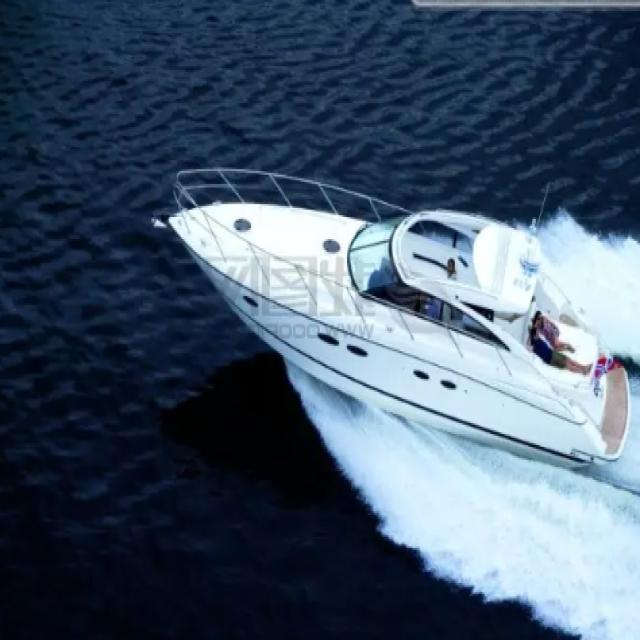houseboat: (173, 159, 630, 457)
